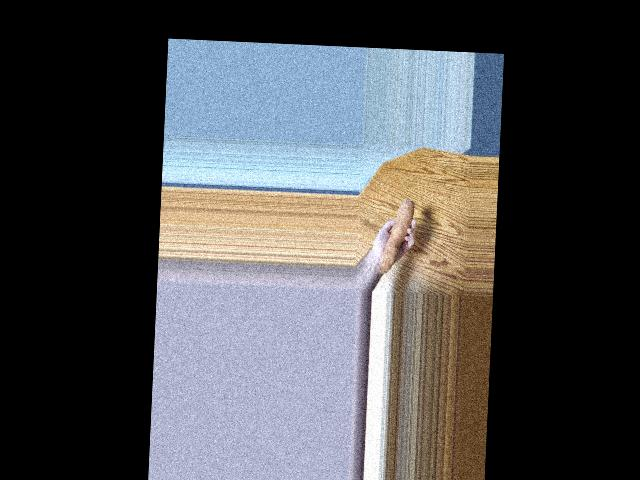sweet_potato: (383, 186, 419, 266)
